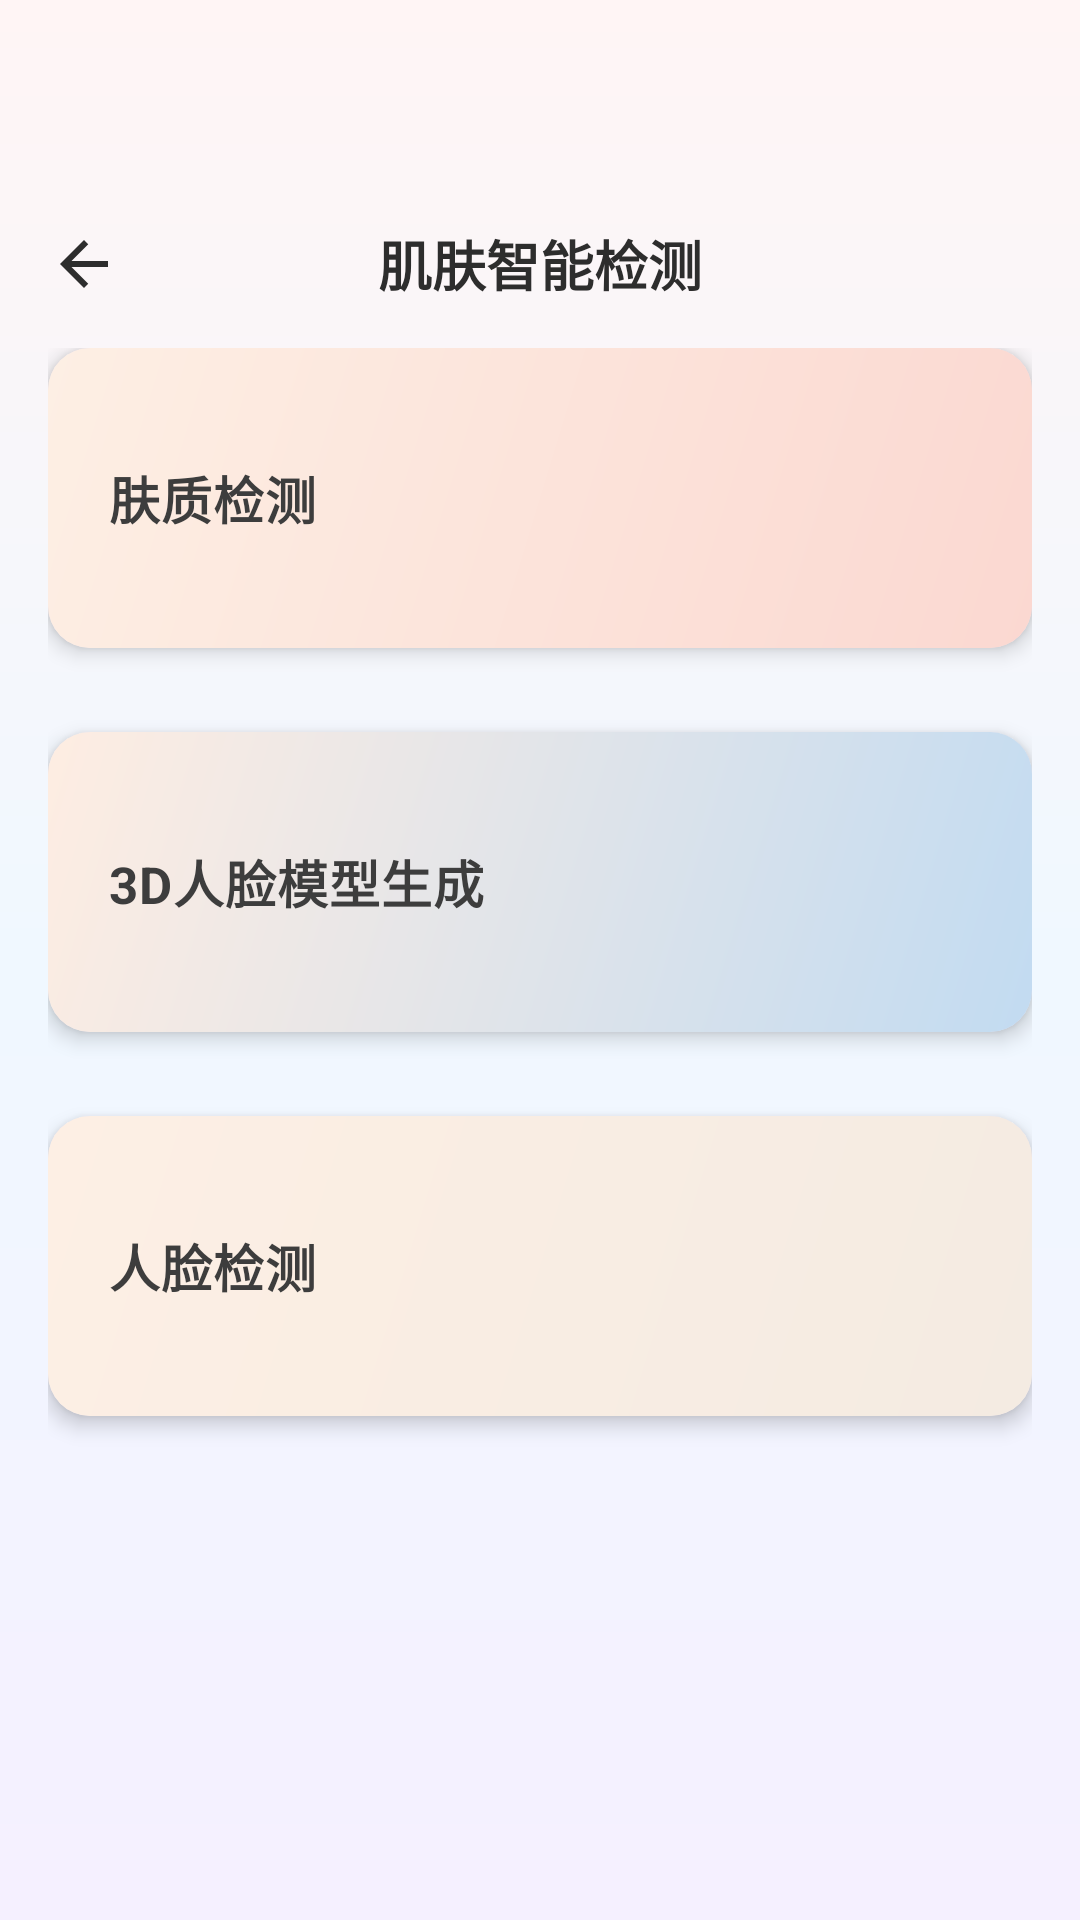

Where to tap for icons on this 1080×1920 app screen, as (x,y):
返回: (84,264)
